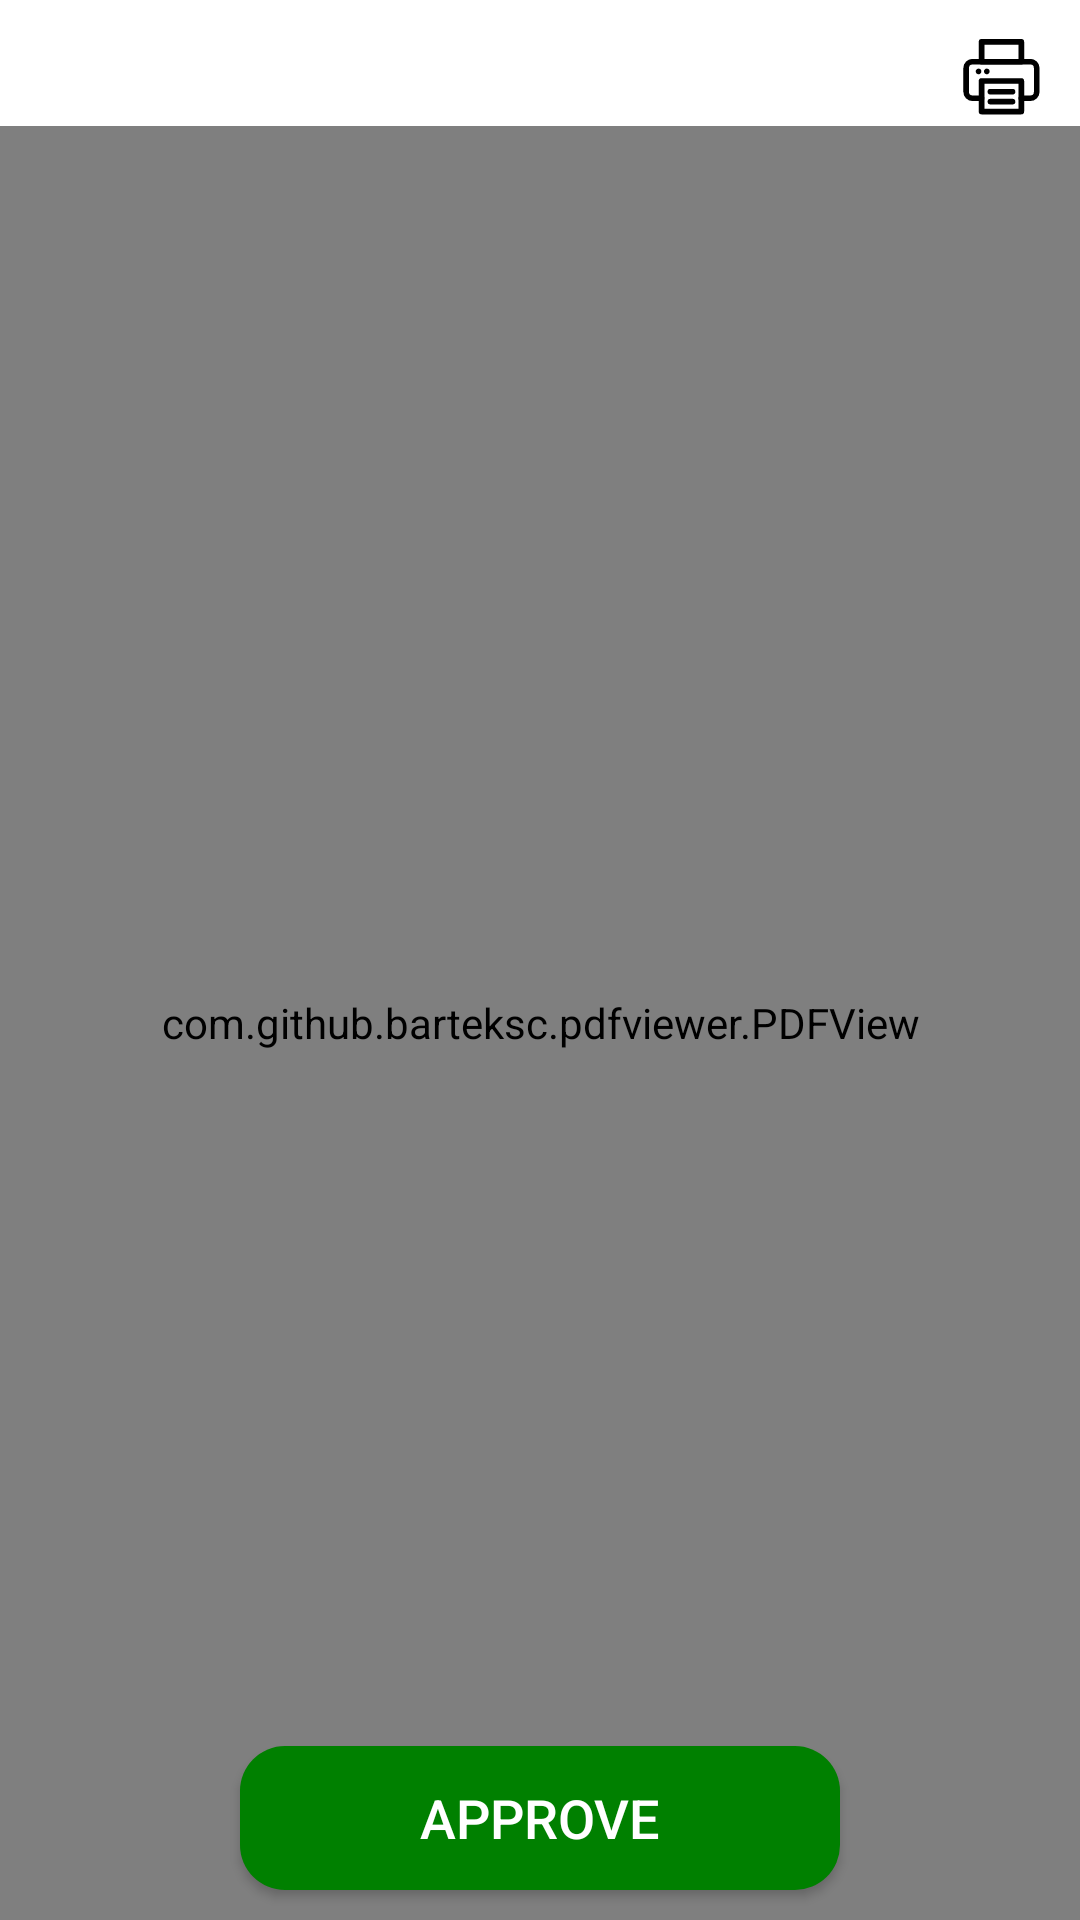

Where to tap for icons on this 1080 x 1920 app screen, as (x=x, y=y):
printer: (x=1001, y=77)
